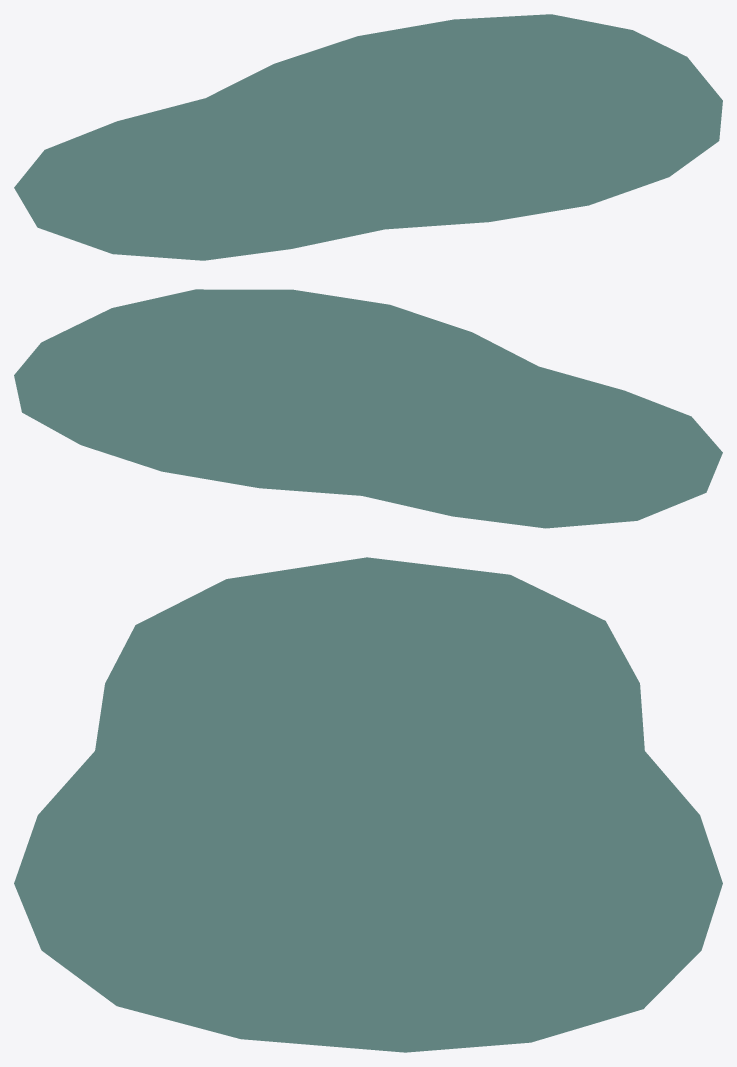
The model's file is pond-4.glb.
The picture shows the model from 3 angles, top to bottom: view 1: azimuth 30°, elevation 25°; view 2: azimuth 150°, elevation 25°; view 3: azimuth 270°, elevation 25°; orthographic projection. The views are drawn at different scales.
Parts seen in each view (by area): view 1: pond-4-mesh; view 2: pond-4-mesh; view 3: pond-4-mesh.
Part boxes in pixels (x1,y1,x2,y2): pond-4-mesh: [14, 14, 722, 260]; pond-4-mesh: [14, 289, 722, 528]; pond-4-mesh: [14, 557, 722, 1052].
Size of the model in its own units: 275 by 2.29e-10 by 166.
